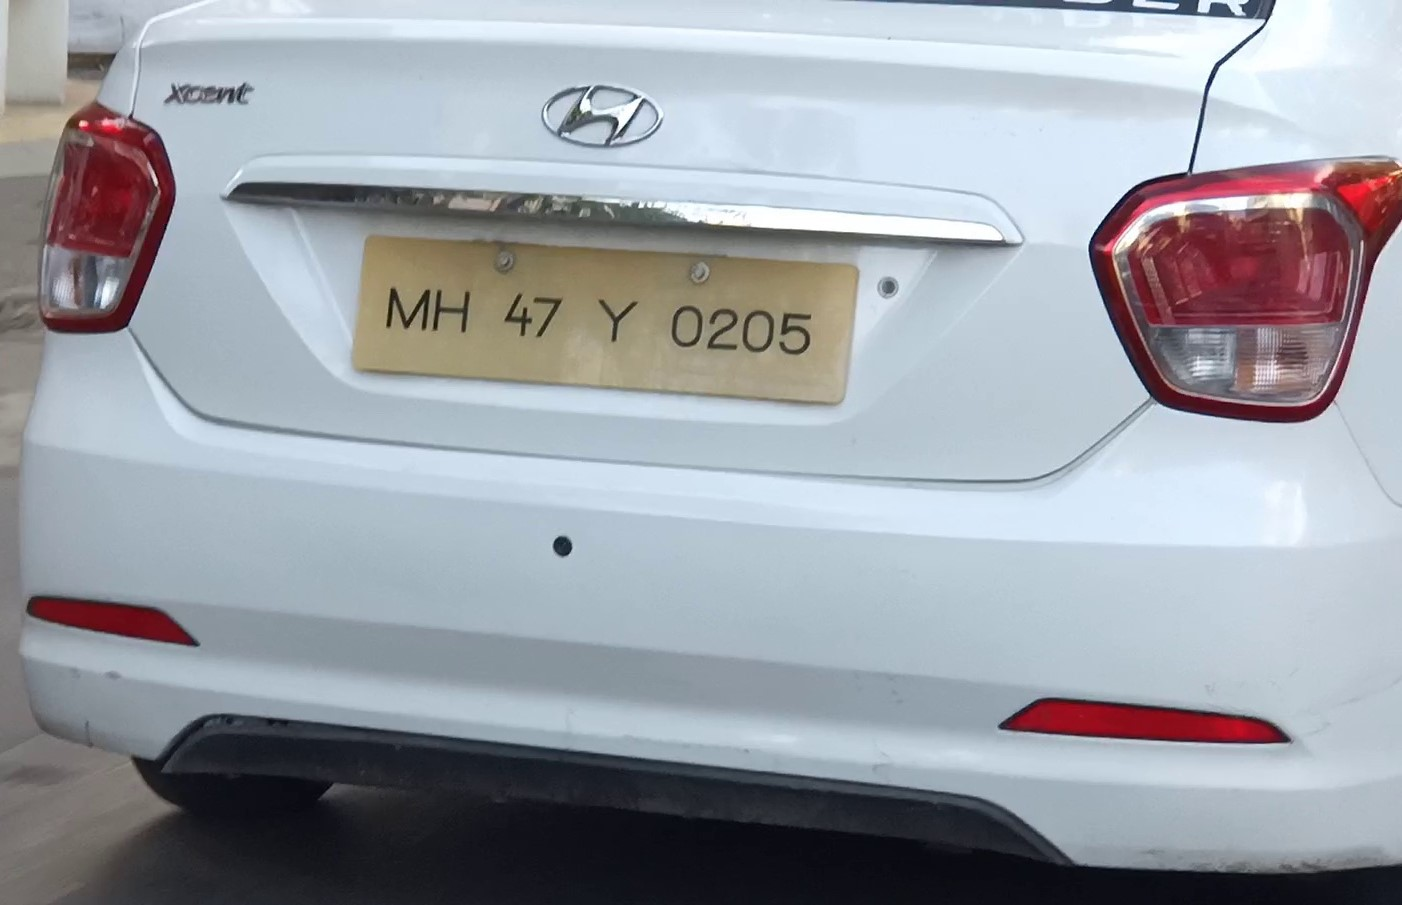MH47Y0205: (353, 236, 860, 405)
